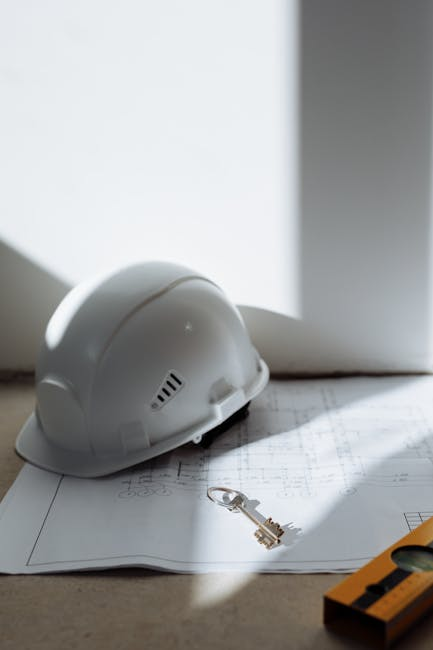safety_helmet: (13, 258, 271, 480)
